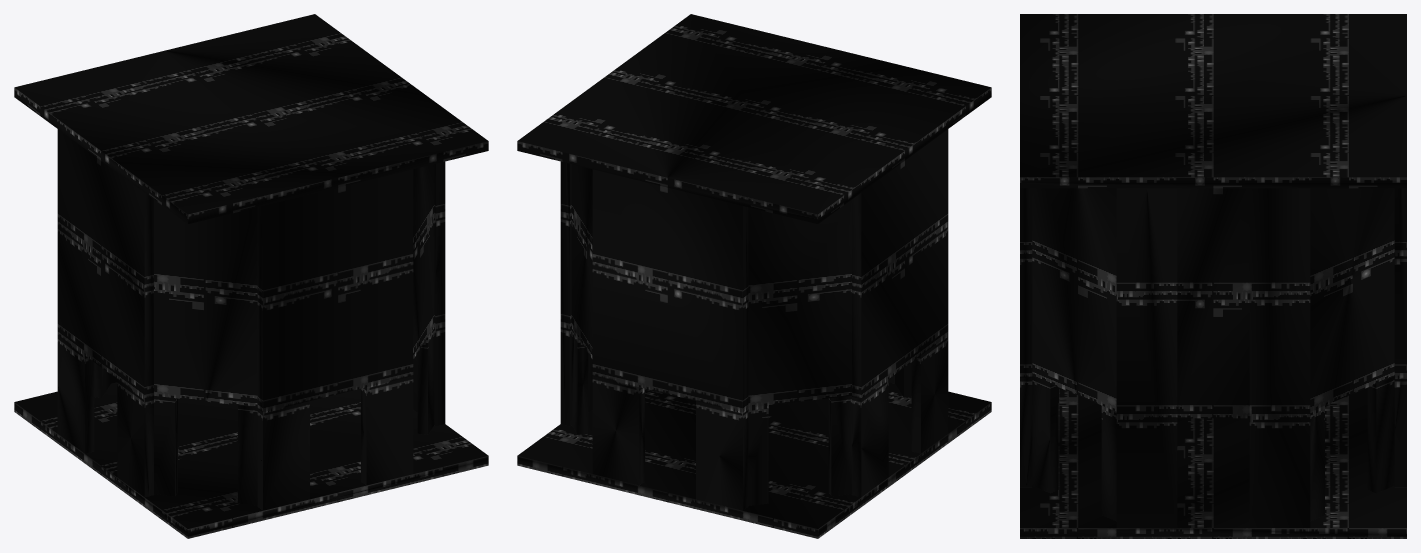
File: pocketdimension1_opt.obj
3 renders of one model, left to right at view 1: azimuth 30°, elevation 25°; view 2: azimuth 150°, elevation 25°; view 3: azimuth 270°, elevation 25°, orthographic. The views are drawn at different scales.
Size of the model in its own units: 51.2 by 52.8 by 51.2.
1 material, 1 textured.
